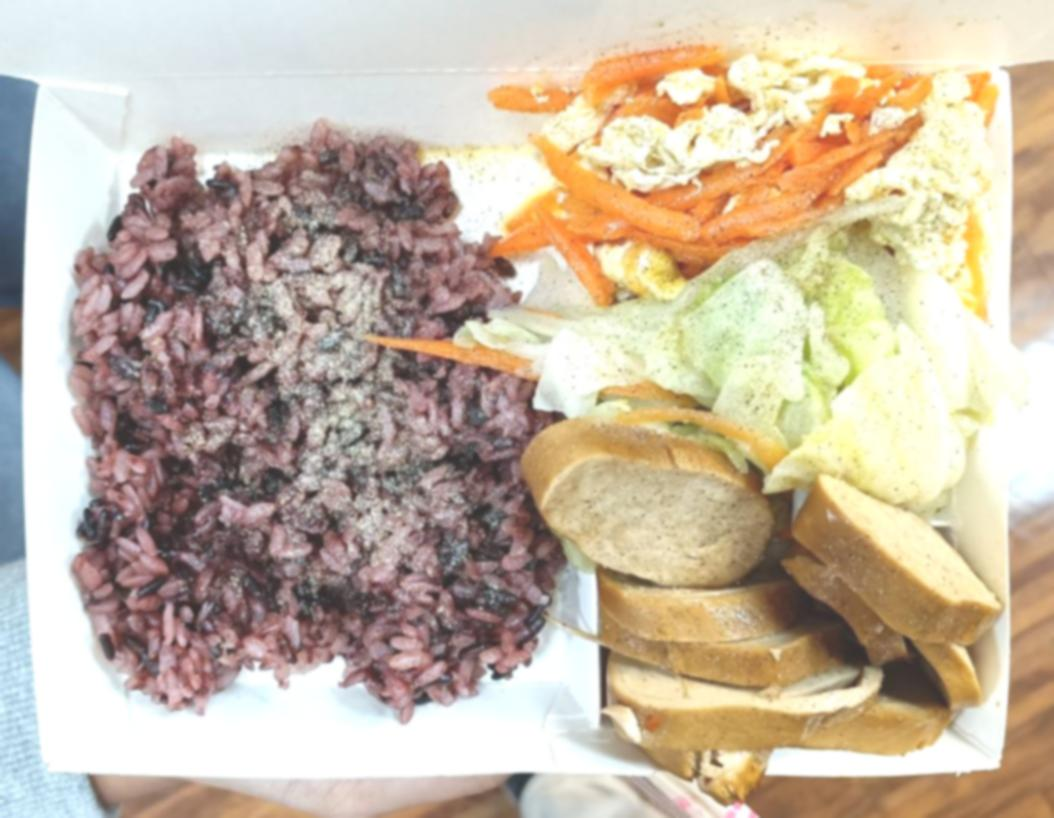big grilled chicken leg: (5, 49, 1029, 792)
braised fish: (59, 119, 565, 719)
braised fish fillet: (522, 419, 1000, 803), (477, 245, 1028, 514), (492, 50, 993, 304)
